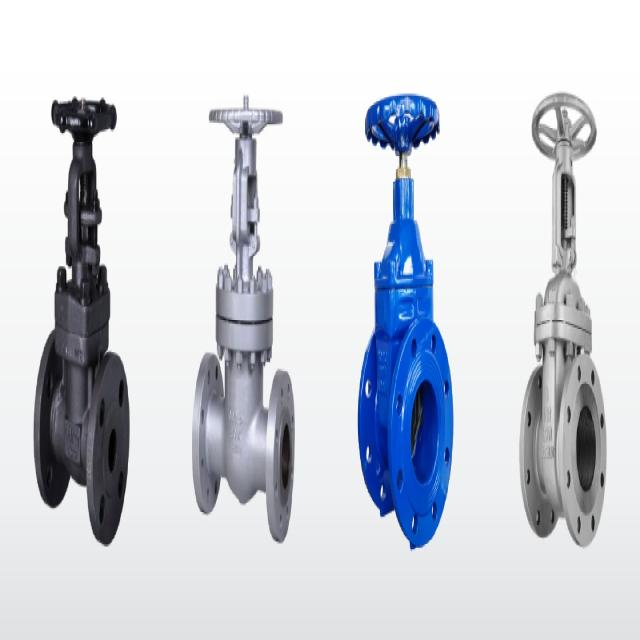Wheel Handle Valve Threaded: (355, 74, 456, 197), (517, 80, 612, 190), (34, 74, 135, 175), (194, 80, 298, 171)
